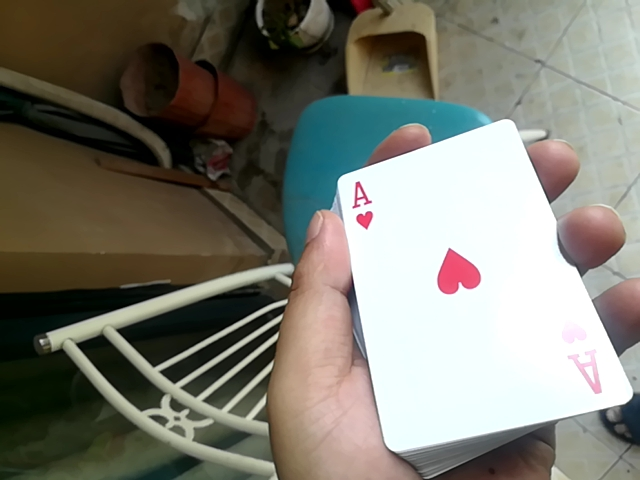hx a: (322, 134, 624, 461)
